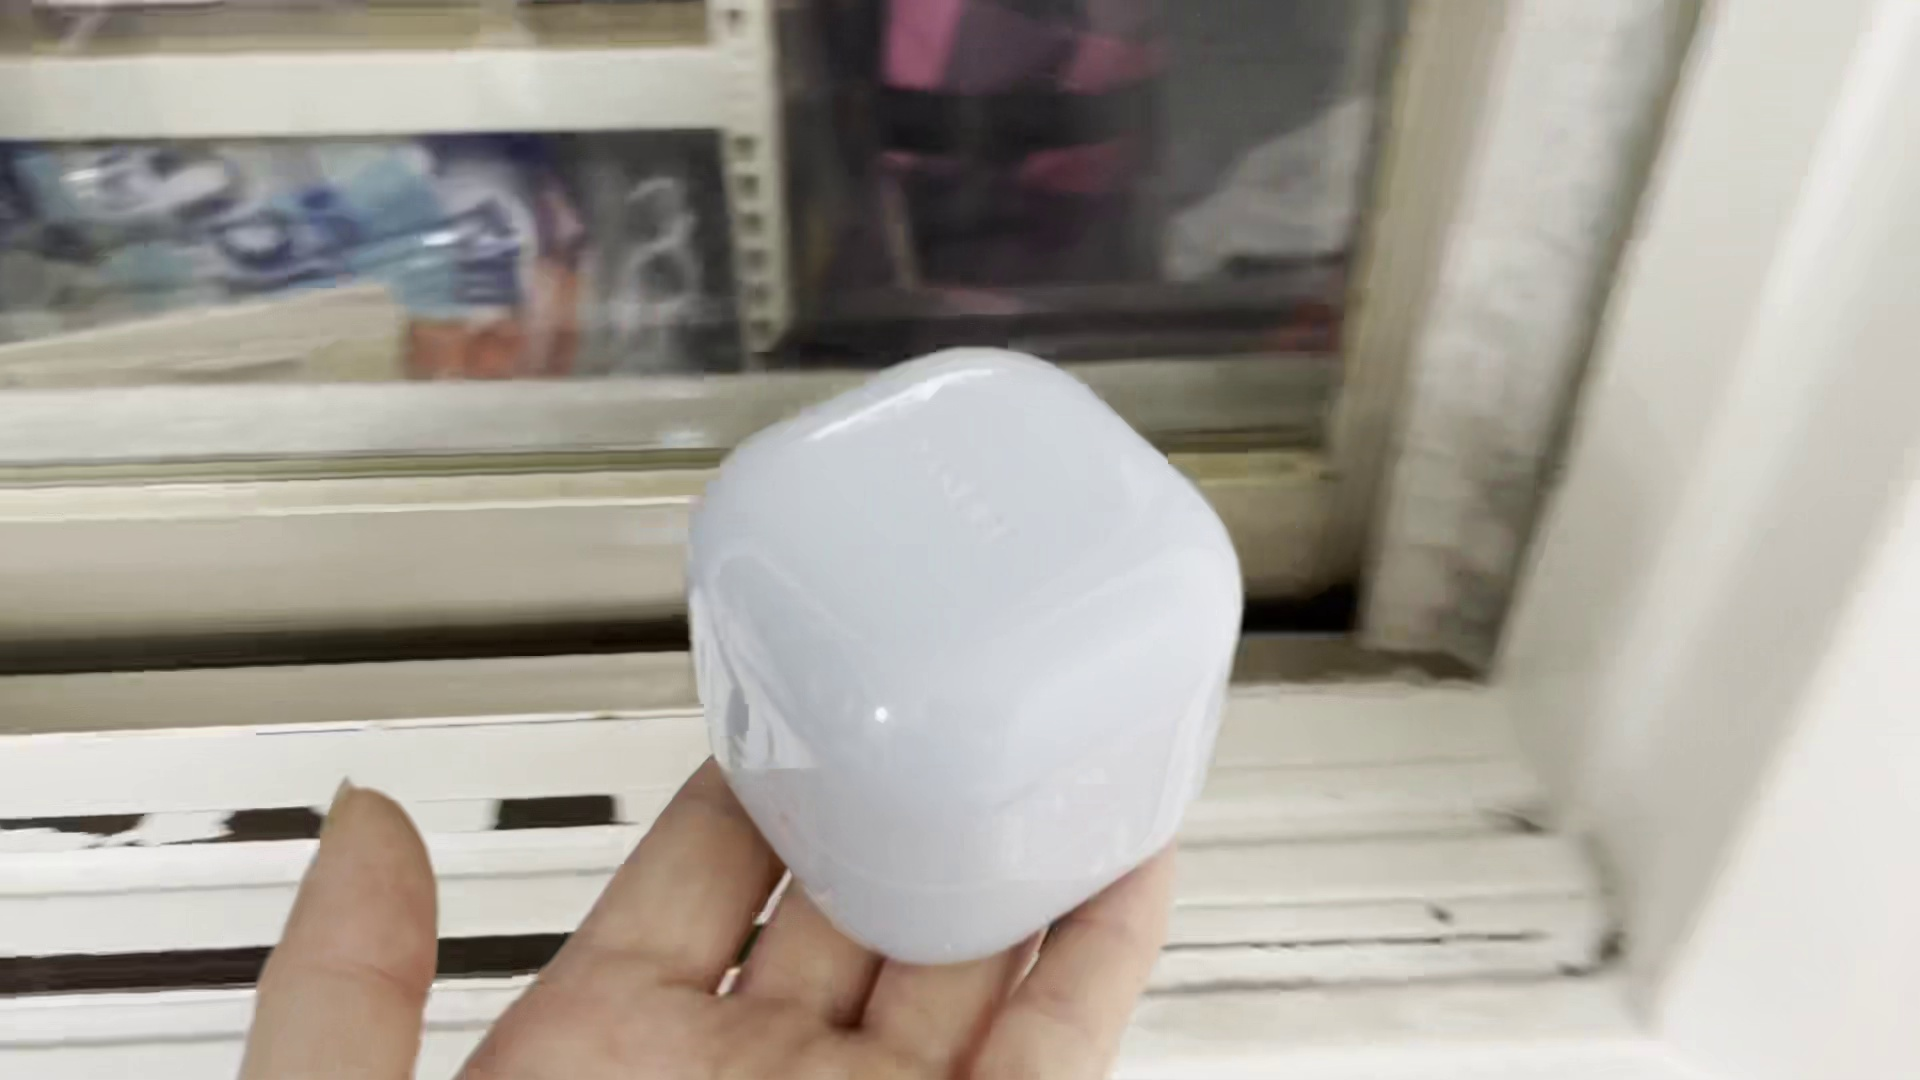cream: (691, 343, 1242, 960)
